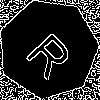R: (23, 24, 82, 82)
